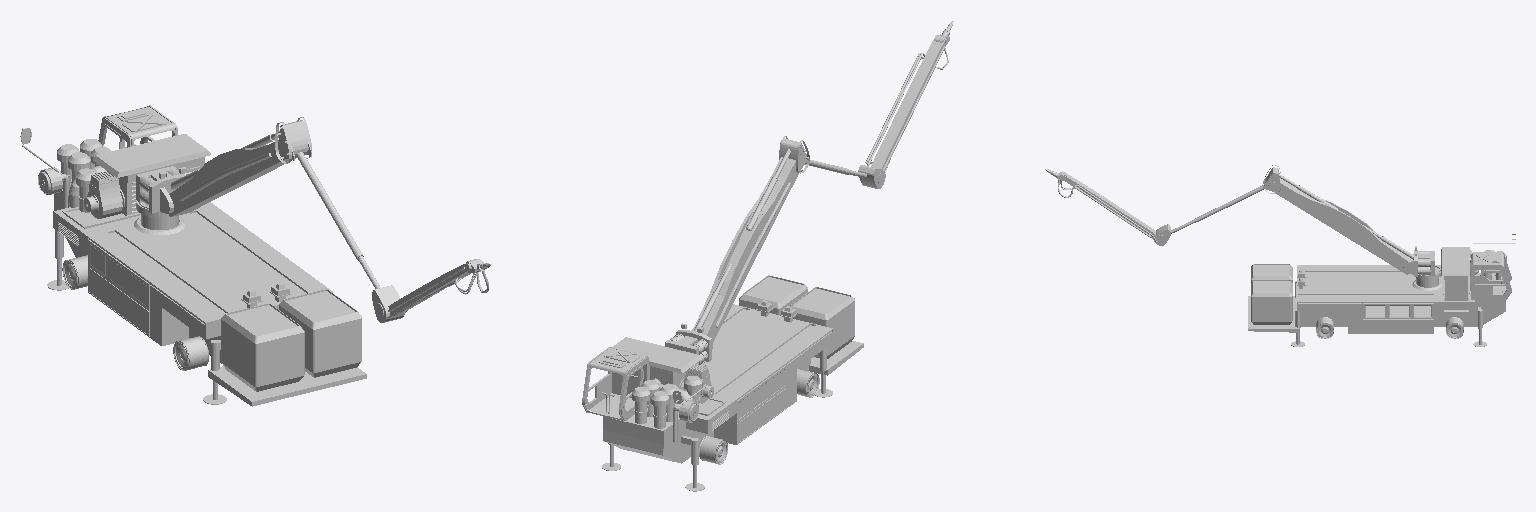
URDF robot description (shipen_4dof):
<?xml version="1.0"?>
<robot name="shipen_4dof">
  <material name="robot_gray">
    <color rgba="0.85 0.85 0.85 1.0"/>
  </material>
  <material name="robot_black">
    <color rgba="0.12 0.12 0.12 1.0"/>
  </material>
  <link name="base_link">
    <inertial>
      <origin xyz="0 0 0" rpy="0 0 0"/>
      <mass value="20.000000"/>
      <inertia ixx="0.001" ixy="0" ixz="0" iyy="0.001" iyz="0" izz="0.001"/>
    </inertial>
    <visual>
      <origin xyz="0 0 0" rpy="0 0 0"/>
      <geometry>
        <mesh filename="meshes/base_link/3d66-Editable_mesh-23002546-008.obj"/>
      </geometry>
      <material name="robot_gray">
        <color rgba="0.85 0.85 0.85 1.0"/>
      </material>
    </visual>
    <visual>
      <origin xyz="0 0 0" rpy="0 0 0"/>
      <geometry>
        <mesh filename="meshes/base_link/3d66-Editable_mesh-23002546-009.obj"/>
      </geometry>
      <material name="robot_gray">
        <color rgba="0.85 0.85 0.85 1.0"/>
      </material>
    </visual>
    <visual>
      <origin xyz="0 0 0" rpy="0 0 0"/>
      <geometry>
        <mesh filename="meshes/base_link/3d66-Editable_mesh-23002546-010.obj"/>
      </geometry>
      <material name="robot_gray">
        <color rgba="0.85 0.85 0.85 1.0"/>
      </material>
    </visual>
    <visual>
      <origin xyz="0 0 0" rpy="0 0 0"/>
      <geometry>
        <mesh filename="meshes/base_link/3d66-Editable_mesh-23002546-014.obj"/>
      </geometry>
      <material name="robot_gray">
        <color rgba="0.85 0.85 0.85 1.0"/>
      </material>
    </visual>
    <visual>
      <origin xyz="0 0 0" rpy="0 0 0"/>
      <geometry>
        <mesh filename="meshes/base_link/3d66-Editable_mesh-23002546-015.obj"/>
      </geometry>
      <material name="robot_gray">
        <color rgba="0.85 0.85 0.85 1.0"/>
      </material>
    </visual>
    <visual>
      <origin xyz="0 0 0" rpy="0 0 0"/>
      <geometry>
        <mesh filename="meshes/base_link/3d66-Editable_mesh-23002546-016.obj"/>
      </geometry>
      <material name="robot_gray">
        <color rgba="0.85 0.85 0.85 1.0"/>
      </material>
    </visual>
    <visual>
      <origin xyz="0 0 0" rpy="0 0 0"/>
      <geometry>
        <mesh filename="meshes/base_link/3d66-Editable_mesh-23002546-017.obj"/>
      </geometry>
      <material name="robot_gray">
        <color rgba="0.85 0.85 0.85 1.0"/>
      </material>
    </visual>
    <visual>
      <origin xyz="0 0 0" rpy="0 0 0"/>
      <geometry>
        <mesh filename="meshes/base_link/3d66-Editable_Poly-23002546-025.obj"/>
      </geometry>
      <material name="robot_gray">
        <color rgba="0.85 0.85 0.85 1.0"/>
      </material>
    </visual>
    <visual>
      <origin xyz="0 0 0" rpy="0 0 0"/>
      <geometry>
        <mesh filename="meshes/base_link/3d66-Editable_Poly-23002546-027.obj"/>
      </geometry>
      <material name="robot_gray">
        <color rgba="0.85 0.85 0.85 1.0"/>
      </material>
    </visual>
    <visual>
      <origin xyz="0 0 0" rpy="0 0 0"/>
      <geometry>
        <mesh filename="meshes/base_link/3d66-Editable_Poly-23002546-028.obj"/>
      </geometry>
      <material name="robot_gray">
        <color rgba="0.85 0.85 0.85 1.0"/>
      </material>
    </visual>
    <visual>
      <origin xyz="0 0 0" rpy="0 0 0"/>
      <geometry>
        <mesh filename="meshes/base_link/3d66-Editable_Poly-23002546-029.obj"/>
      </geometry>
      <material name="robot_gray">
        <color rgba="0.85 0.85 0.85 1.0"/>
      </material>
    </visual>
    <visual>
      <origin xyz="0 0 0" rpy="0 0 0"/>
      <geometry>
        <mesh filename="meshes/base_link/3d66-Editable_Poly-23002546-031.obj"/>
      </geometry>
      <material name="robot_gray">
        <color rgba="0.85 0.85 0.85 1.0"/>
      </material>
    </visual>
    <visual>
      <origin xyz="0 0 0" rpy="0 0 0"/>
      <geometry>
        <mesh filename="meshes/base_link/3d66-Editable_Poly-23002546-032.obj"/>
      </geometry>
      <material name="robot_gray">
        <color rgba="0.85 0.85 0.85 1.0"/>
      </material>
    </visual>
    <visual>
      <origin xyz="0 0 0" rpy="0 0 0"/>
      <geometry>
        <mesh filename="meshes/base_link/3d66-Editable_Poly-23002546-034.obj"/>
      </geometry>
      <material name="robot_gray">
        <color rgba="0.85 0.85 0.85 1.0"/>
      </material>
    </visual>
    <visual>
      <origin xyz="0 0 0" rpy="0 0 0"/>
      <geometry>
        <mesh filename="meshes/base_link/3d66-Editable_Poly-23002546-035.obj"/>
      </geometry>
      <material name="robot_gray">
        <color rgba="0.85 0.85 0.85 1.0"/>
      </material>
    </visual>
    <visual>
      <origin xyz="0 0 0" rpy="0 0 0"/>
      <geometry>
        <mesh filename="meshes/base_link/3d66-Editable_Poly-23002546-037.obj"/>
      </geometry>
      <material name="robot_gray">
        <color rgba="0.85 0.85 0.85 1.0"/>
      </material>
    </visual>
    <visual>
      <origin xyz="0 0 0" rpy="0 0 0"/>
      <geometry>
        <mesh filename="meshes/base_link/3d66-Editable_Poly-23002546-038.obj"/>
      </geometry>
      <material name="robot_gray">
        <color rgba="0.85 0.85 0.85 1.0"/>
      </material>
    </visual>
    <visual>
      <origin xyz="0 0 0" rpy="0 0 0"/>
      <geometry>
        <mesh filename="meshes/base_link/3d66-Editable_Poly-23002546-039.obj"/>
      </geometry>
      <material name="robot_gray">
        <color rgba="0.85 0.85 0.85 1.0"/>
      </material>
    </visual>
    <visual>
      <origin xyz="0 0 0" rpy="0 0 0"/>
      <geometry>
        <mesh filename="meshes/base_link/3d66-Editable_Poly-23002546-040.obj"/>
      </geometry>
      <material name="robot_gray">
        <color rgba="0.85 0.85 0.85 1.0"/>
      </material>
    </visual>
    <visual>
      <origin xyz="0 0 0" rpy="0 0 0"/>
      <geometry>
        <mesh filename="meshes/base_link/3d66-Editable_Poly-23002546-041.obj"/>
      </geometry>
      <material name="robot_gray">
        <color rgba="0.85 0.85 0.85 1.0"/>
      </material>
    </visual>
    <visual>
      <origin xyz="0 0 0" rpy="0 0 0"/>
      <geometry>
        <mesh filename="meshes/base_link/3d66-Editable_Poly-23002546-042.obj"/>
      </geometry>
      <material name="robot_gray">
        <color rgba="0.85 0.85 0.85 1.0"/>
      </material>
    </visual>
    <visual>
      <origin xyz="0 0 0" rpy="0 0 0"/>
      <geometry>
        <mesh filename="meshes/base_link/3d66-Editable_Poly-23002546-043.obj"/>
      </geometry>
      <material name="robot_gray">
        <color rgba="0.85 0.85 0.85 1.0"/>
      </material>
    </visual>
    <visual>
      <origin xyz="0 0 0" rpy="0 0 0"/>
      <geometry>
        <mesh filename="meshes/base_link/3d66-Editable_Poly-23002546-053.obj"/>
      </geometry>
      <material name="robot_gray">
        <color rgba="0.85 0.85 0.85 1.0"/>
      </material>
    </visual>
    <visual>
      <origin xyz="0 0 0" rpy="0 0 0"/>
      <geometry>
        <mesh filename="meshes/base_link/3d66-Editable_Poly-23002546-057.obj"/>
      </geometry>
      <material name="robot_gray">
        <color rgba="0.85 0.85 0.85 1.0"/>
      </material>
    </visual>
    <visual>
      <origin xyz="0 0 0" rpy="0 0 0"/>
      <geometry>
        <mesh filename="meshes/base_link/3d66-Editable_Poly-23002546-058.obj"/>
      </geometry>
      <material name="robot_gray">
        <color rgba="0.85 0.85 0.85 1.0"/>
      </material>
    </visual>
    <visual>
      <origin xyz="0 0 0" rpy="0 0 0"/>
      <geometry>
        <mesh filename="meshes/base_link/3d66-Editable_Poly-23002546-059.obj"/>
      </geometry>
      <material name="robot_gray">
        <color rgba="0.85 0.85 0.85 1.0"/>
      </material>
    </visual>
    <visual>
      <origin xyz="0 0 0" rpy="0 0 0"/>
      <geometry>
        <mesh filename="meshes/base_link/3d66-Editable_Poly-23002546-060.obj"/>
      </geometry>
      <material name="robot_gray">
        <color rgba="0.85 0.85 0.85 1.0"/>
      </material>
    </visual>
    <visual>
      <origin xyz="0 0 0" rpy="0 0 0"/>
      <geometry>
        <mesh filename="meshes/base_link/3d66-Editable_Poly-23002546-061.obj"/>
      </geometry>
      <material name="robot_gray">
        <color rgba="0.85 0.85 0.85 1.0"/>
      </material>
    </visual>
    <visual>
      <origin xyz="0 0 0" rpy="0 0 0"/>
      <geometry>
        <mesh filename="meshes/base_link/3d66-Editable_Poly-23002546-062.obj"/>
      </geometry>
      <material name="robot_gray">
        <color rgba="0.85 0.85 0.85 1.0"/>
      </material>
    </visual>
    <visual>
      <origin xyz="0 0 0" rpy="0 0 0"/>
      <geometry>
        <mesh filename="meshes/base_link/3d66-Editable_Poly-23002546-063.obj"/>
      </geometry>
      <material name="robot_gray">
        <color rgba="0.85 0.85 0.85 1.0"/>
      </material>
    </visual>
    <visual>
      <origin xyz="0 0 0" rpy="0 0 0"/>
      <geometry>
        <mesh filename="meshes/base_link/3d66-Editable_Poly-23002546-064.obj"/>
      </geometry>
      <material name="robot_gray">
        <color rgba="0.85 0.85 0.85 1.0"/>
      </material>
    </visual>
    <visual>
      <origin xyz="0 0 0" rpy="0 0 0"/>
      <geometry>
        <mesh filename="meshes/base_link/3d66-Editable_Poly-23002546-065.obj"/>
      </geometry>
      <material name="robot_gray">
        <color rgba="0.85 0.85 0.85 1.0"/>
      </material>
    </visual>
    <visual>
      <origin xyz="0 0 0" rpy="0 0 0"/>
      <geometry>
        <mesh filename="meshes/base_link/3d66-Editable_Poly-23002546-066.obj"/>
      </geometry>
      <material name="robot_gray">
        <color rgba="0.85 0.85 0.85 1.0"/>
      </material>
    </visual>
    <visual>
      <origin xyz="0 0 0" rpy="0 0 0"/>
      <geometry>
        <mesh filename="meshes/base_link/3d66-Editable_Poly-23002546-070.obj"/>
      </geometry>
      <material name="robot_gray">
        <color rgba="0.85 0.85 0.85 1.0"/>
      </material>
    </visual>
    <visual>
      <origin xyz="0 0 0" rpy="0 0 0"/>
      <geometry>
        <mesh filename="meshes/base_link/3d66-PolyMeshObject-23002546-017.obj"/>
      </geometry>
      <material name="robot_gray">
        <color rgba="0.85 0.85 0.85 1.0"/>
      </material>
    </visual>
    <visual>
      <origin xyz="0 0 0" rpy="0 0 0"/>
      <geometry>
        <mesh filename="meshes/base_link/3d66-PolyMeshObject-23002546-018.obj"/>
      </geometry>
      <material name="robot_gray">
        <color rgba="0.85 0.85 0.85 1.0"/>
      </material>
    </visual>
    <visual>
      <origin xyz="0 0 0" rpy="0 0 0"/>
      <geometry>
        <mesh filename="meshes/base_link/3d66-PolyMeshObject-23002546-019.obj"/>
      </geometry>
      <material name="robot_gray">
        <color rgba="0.85 0.85 0.85 1.0"/>
      </material>
    </visual>
    <visual>
      <origin xyz="0 0 0" rpy="0 0 0"/>
      <geometry>
        <mesh filename="meshes/base_link/3d66-PolyMeshObject-23002546-020.obj"/>
      </geometry>
      <material name="robot_gray">
        <color rgba="0.85 0.85 0.85 1.0"/>
      </material>
    </visual>
    <visual>
      <origin xyz="0 0 0" rpy="0 0 0"/>
      <geometry>
        <mesh filename="meshes/base_link/3d66-PolyMeshObject-23002546-021.obj"/>
      </geometry>
      <material name="robot_gray">
        <color rgba="0.85 0.85 0.85 1.0"/>
      </material>
    </visual>
    <visual>
      <origin xyz="0 0 0" rpy="0 0 0"/>
      <geometry>
        <mesh filename="meshes/base_link/3d66-PolyMeshObject-23002546-022.obj"/>
      </geometry>
      <material name="robot_gray">
        <color rgba="0.85 0.85 0.85 1.0"/>
      </material>
    </visual>
    <visual>
      <origin xyz="0 0 0" rpy="0 0 0"/>
      <geometry>
        <mesh filename="meshes/base_link/3d66-PolyMeshObject-23002546-023.obj"/>
      </geometry>
      <material name="robot_gray">
        <color rgba="0.85 0.85 0.85 1.0"/>
      </material>
    </visual>
    <visual>
      <origin xyz="0 0 0" rpy="0 0 0"/>
      <geometry>
        <mesh filename="meshes/base_link/3d66-PolyMeshObject-23002546-024.obj"/>
      </geometry>
      <material name="robot_gray">
        <color rgba="0.85 0.85 0.85 1.0"/>
      </material>
    </visual>
    <visual>
      <origin xyz="0 0 0" rpy="0 0 0"/>
      <geometry>
        <mesh filename="meshes/base_link/3d66-PolyMeshObject-23002546-025.obj"/>
      </geometry>
      <material name="robot_gray">
        <color rgba="0.85 0.85 0.85 1.0"/>
      </material>
    </visual>
    <visual>
      <origin xyz="0 0 0" rpy="0 0 0"/>
      <geometry>
        <mesh filename="meshes/base_link/3d66-PolyMeshObject-23002546-026.obj"/>
      </geometry>
      <material name="robot_gray">
        <color rgba="0.85 0.85 0.85 1.0"/>
      </material>
    </visual>
    <visual>
      <origin xyz="0 0 0" rpy="0 0 0"/>
      <geometry>
        <mesh filename="meshes/base_link/3d66-PolyMeshObject-23002546-027.obj"/>
      </geometry>
      <material name="robot_gray">
        <color rgba="0.85 0.85 0.85 1.0"/>
      </material>
    </visual>
  </link>
  <link name="yaw_link">
    <inertial>
      <origin xyz="0 0 0" rpy="0 0 0"/>
      <mass value="0.200000"/>
      <inertia ixx="0.001" ixy="0" ixz="0" iyy="0.001" iyz="0" izz="0.001"/>
    </inertial>
    <visual>
      <origin xyz="0 0 0" rpy="0 0 0"/>
      <geometry>
        <mesh filename="meshes/yaw_link/3d66-Editable_Poly-23002546-044.obj"/>
      </geometry>
      <material name="robot_gray">
        <color rgba="0.85 0.85 0.85 1.0"/>
      </material>
    </visual>
    <visual>
      <origin xyz="0 0 0" rpy="0 0 0"/>
      <geometry>
        <mesh filename="meshes/yaw_link/3d66-Editable_Poly-23002546-045.obj"/>
      </geometry>
      <material name="robot_gray">
        <color rgba="0.85 0.85 0.85 1.0"/>
      </material>
    </visual>
    <visual>
      <origin xyz="0 0 0" rpy="0 0 0"/>
      <geometry>
        <mesh filename="meshes/yaw_link/3d66-Editable_Poly-23002546-046.obj"/>
      </geometry>
      <material name="robot_gray">
        <color rgba="0.85 0.85 0.85 1.0"/>
      </material>
    </visual>
    <visual>
      <origin xyz="0 0 0" rpy="0 0 0"/>
      <geometry>
        <mesh filename="meshes/yaw_link/3d66-Editable_Poly-23002546-047.obj"/>
      </geometry>
      <material name="robot_gray">
        <color rgba="0.85 0.85 0.85 1.0"/>
      </material>
    </visual>
    <visual>
      <origin xyz="0 0 0" rpy="0 0 0"/>
      <geometry>
        <mesh filename="meshes/yaw_link/3d66-Editable_Poly-23002546-048.obj"/>
      </geometry>
      <material name="robot_gray">
        <color rgba="0.85 0.85 0.85 1.0"/>
      </material>
    </visual>
    <visual>
      <origin xyz="0 0 0" rpy="0 0 0"/>
      <geometry>
        <mesh filename="meshes/yaw_link/3d66-Editable_Poly-23002546-049.obj"/>
      </geometry>
      <material name="robot_gray">
        <color rgba="0.85 0.85 0.85 1.0"/>
      </material>
    </visual>
  </link>
  <link name="boom1_link">
    <inertial>
      <origin xyz="0 0 0" rpy="0 0 0"/>
      <mass value="2.000000"/>
      <inertia ixx="0.001" ixy="0" ixz="0" iyy="0.001" iyz="0" izz="0.001"/>
    </inertial>
    <visual>
      <origin xyz="0 0 0" rpy="0 0 0"/>
      <geometry>
        <mesh filename="meshes/boom1_link/3d66-Editable_Poly-23002546-050.obj"/>
      </geometry>
      <material name="robot_gray">
        <color rgba="0.85 0.85 0.85 1.0"/>
      </material>
    </visual>
    <visual>
      <origin xyz="0 0 0" rpy="0 0 0"/>
      <geometry>
        <mesh filename="meshes/boom1_link/3d66-Editable_Poly-23002546-054.obj"/>
      </geometry>
      <material name="robot_gray">
        <color rgba="0.85 0.85 0.85 1.0"/>
      </material>
    </visual>
    <visual>
      <origin xyz="0 0 0" rpy="0 0 0"/>
      <geometry>
        <mesh filename="meshes/boom1_link/3d66-Editable_Poly-23002546-067.obj"/>
      </geometry>
      <material name="robot_gray">
        <color rgba="0.85 0.85 0.85 1.0"/>
      </material>
    </visual>
    <visual>
      <origin xyz="0 0 0" rpy="0 0 0"/>
      <geometry>
        <mesh filename="meshes/boom1_link/3d66-Editable_Poly-23002546-055.obj"/>
      </geometry>
      <material name="robot_gray">
        <color rgba="0.85 0.85 0.85 1.0"/>
      </material>
    </visual>
    <visual>
      <origin xyz="0 0 0" rpy="0 0 0"/>
      <geometry>
        <mesh filename="meshes/boom1_link/3d66-Editable_Poly-23002546-068.obj"/>
      </geometry>
      <material name="robot_gray">
        <color rgba="0.85 0.85 0.85 1.0"/>
      </material>
    </visual>
  </link>
  <link name="boom2_link">
    <inertial>
      <origin xyz="0 0 0" rpy="0 0 0"/>
      <mass value="1.000000"/>
      <inertia ixx="0.001" ixy="0" ixz="0" iyy="0.001" iyz="0" izz="0.001"/>
    </inertial>
    <visual>
      <origin xyz="0 0 0" rpy="0 0 0"/>
      <geometry>
        <mesh filename="meshes/boom2_link/3d66-Editable_Poly-23002546-051.obj"/>
      </geometry>
      <material name="robot_gray">
        <color rgba="0.85 0.85 0.85 1.0"/>
      </material>
    </visual>
    <visual>
      <origin xyz="0 0 0" rpy="0 0 0"/>
      <geometry>
        <mesh filename="meshes/boom2_link/3d66-Editable_Poly-23002546-056.obj"/>
      </geometry>
      <material name="robot_gray">
        <color rgba="0.85 0.85 0.85 1.0"/>
      </material>
    </visual>
    <visual>
      <origin xyz="0 0 0" rpy="0 0 0"/>
      <geometry>
        <mesh filename="meshes/boom2_link/3d66-Editable_Poly-23002546-069.obj"/>
      </geometry>
      <material name="robot_gray">
        <color rgba="0.85 0.85 0.85 1.0"/>
      </material>
    </visual>
  </link>
  <link name="boom3_link">
    <inertial>
      <origin xyz="0 0 0" rpy="0 0 0"/>
      <mass value="1.000000"/>
      <inertia ixx="0.001" ixy="0" ixz="0" iyy="0.001" iyz="0" izz="0.001"/>
    </inertial>
    <visual>
      <origin xyz="0 0 0" rpy="0 0 0"/>
      <geometry>
        <mesh filename="meshes/boom3_link/3d66-Editable_Poly-23002546-052.obj"/>
      </geometry>
      <material name="robot_gray">
        <color rgba="0.85 0.85 0.85 1.0"/>
      </material>
    </visual>
  </link>
  <joint name="turret_yaw" type="revolute">
    <parent link="base_link"/>
    <child link="yaw_link"/>
    <origin xyz="0.000000 0.000000 0.000000" rpy="0 0 0"/>
    <axis xyz="0 0 1"/>
    <limit lower="-1.57079633" upper="1.57079633" effort="100" velocity="2.0"/>
    <dynamics damping="0.5" friction="0.0"/>
  </joint>
  <joint name="shoulder_pitch" type="revolute">
    <parent link="yaw_link"/>
    <child link="boom1_link"/>
    <origin xyz="0.000000 -0.119299 0.082713" rpy="0 0 0"/>
    <axis xyz="-1 0 0"/>
    <limit lower="-0.34906585" upper="1.04719755" effort="80" velocity="2.0"/>
    <dynamics damping="0.5" friction="0.0"/>
  </joint>
  <joint name="elbow_pitch" type="revolute">
    <parent link="boom1_link"/>
    <child link="boom2_link"/>
    <origin xyz="0.000000 -0.909985 0.625785" rpy="0 0 0"/>
    <axis xyz="-1 0 0"/>
    <limit lower="-1.74532925" upper="1.74532925" effort="60" velocity="2.0"/>
    <dynamics damping="0.5" friction="0.0"/>
  </joint>
  <joint name="wrist_pitch" type="revolute">
    <parent link="boom2_link"/>
    <child link="boom3_link"/>
    <origin xyz="0.000000 -0.726177 -0.420024" rpy="0 0 0"/>
    <axis xyz="-1 0 0"/>
    <limit lower="-1.91986218" upper="1.22173048" effort="40" velocity="2.0"/>
    <dynamics damping="0.5" friction="0.0"/>
  </joint>
</robot>

--- Render facts (derived) ---
Views: 3 orthographic renders of the robot side by side, from view 1: azimuth 30°, elevation 25°; view 2: azimuth 150°, elevation 25°; view 3: azimuth 270°, elevation 25°.
Model shipen_4dof with 5 links and 4 joints (4 revolute), rooted at base_link, posed all joints at 0.
Visible links, largest first — view 1: base_link, boom1_link, boom2_link, boom3_link, yaw_link; view 2: base_link, boom1_link, boom3_link, yaw_link, boom2_link; view 3: base_link, boom1_link, boom3_link, boom2_link, yaw_link.
Link boxes in pixels (bbox=[...]): base_link: bbox=[20, 105, 366, 406]; boom1_link: bbox=[168, 117, 311, 216]; boom2_link: bbox=[297, 152, 404, 322]; boom3_link: bbox=[388, 259, 491, 317]; yaw_link: bbox=[136, 166, 185, 213]; base_link: bbox=[582, 275, 863, 491]; boom1_link: bbox=[692, 136, 809, 341]; boom3_link: bbox=[865, 21, 953, 172]; yaw_link: bbox=[665, 330, 712, 364]; boom2_link: bbox=[805, 160, 885, 188]; base_link: bbox=[1248, 234, 1515, 346]; boom1_link: bbox=[1263, 165, 1413, 274]; boom3_link: bbox=[1045, 169, 1157, 242]; boom2_link: bbox=[1154, 185, 1263, 245]; yaw_link: bbox=[1403, 250, 1434, 276].
Size in the robot's own frame: 0.5786 by 3.09 by 1.19 metres.
Meshes: 60 distinct files referenced, 56 mesh visuals loaded (56 OBJ); not drawn: 4 (reference not matched to a file when rendering).
